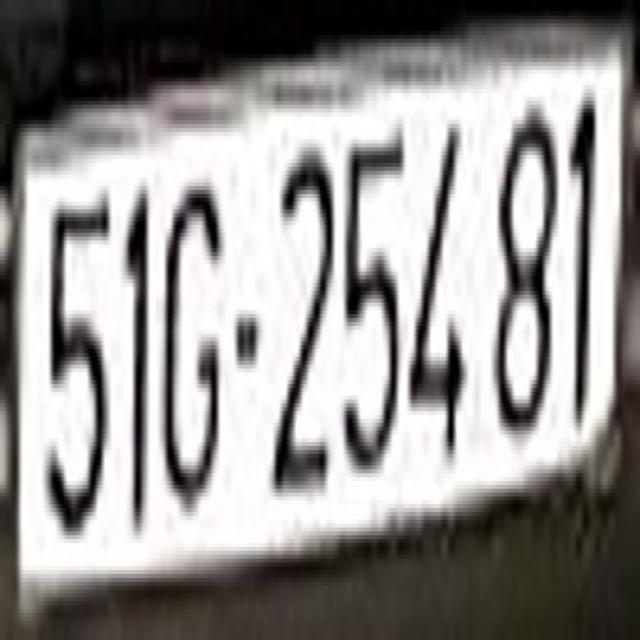1: (120, 163, 148, 535), (566, 86, 592, 434)
2: (270, 144, 335, 492)
4: (409, 120, 469, 466)
5: (48, 175, 110, 539), (342, 128, 402, 481)
8: (494, 97, 554, 438)
G: (161, 159, 222, 516)
